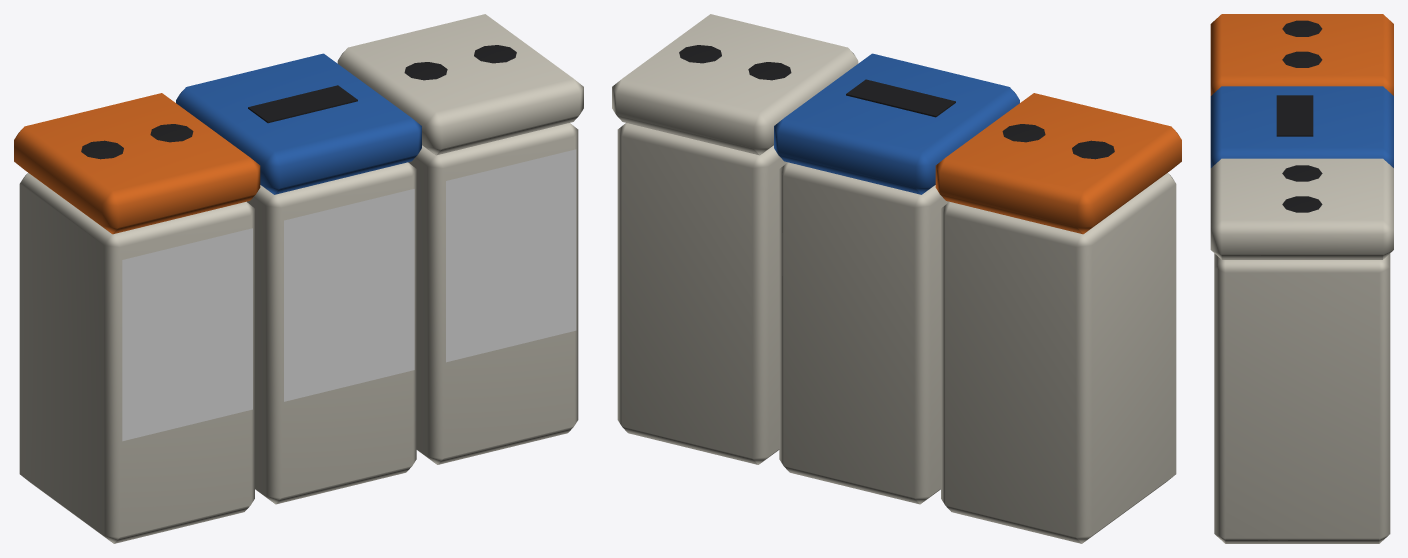
The model's file is RecycleKM.fbx.
3 views of the same model, side by side, from view 1: azimuth 30°, elevation 25°; view 2: azimuth 150°, elevation 25°; view 3: azimuth 270°, elevation 25° (orthographic). The views are drawn at different scales.
Visible parts, largest first — view 1: RecycleKM; view 2: RecycleKM; view 3: RecycleKM.
Boxes of the visible parts, <box> form: RecycleKM: <box>14,14,583,543</box>; RecycleKM: <box>612,14,1181,543</box>; RecycleKM: <box>1210,14,1393,543</box>.
Bounding box in the file's own units: 1.39 × 0.985 × 0.502.
